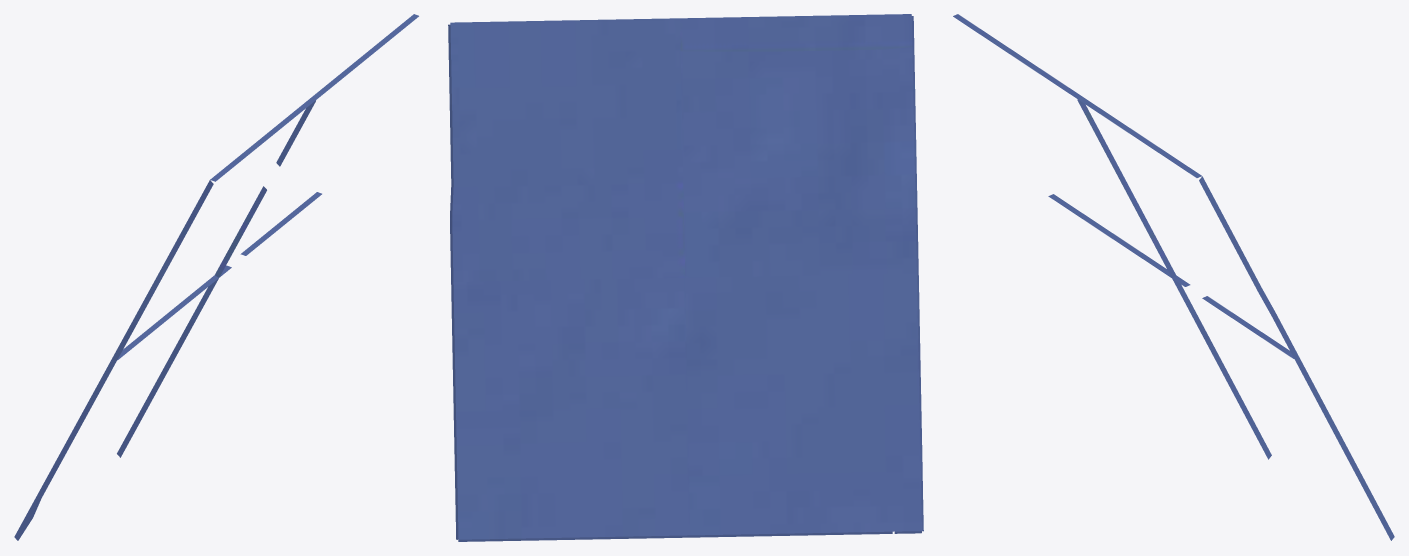
3 views of the same model, side by side, from view 1: azimuth 30°, elevation 25°; view 2: azimuth 150°, elevation 25°; view 3: azimuth 270°, elevation 25° (orthographic). The views are drawn at different scales.
Size of the model in its own units: 39392 by 35420 by 34178.
Materials: 1 (1 with a texture image).
